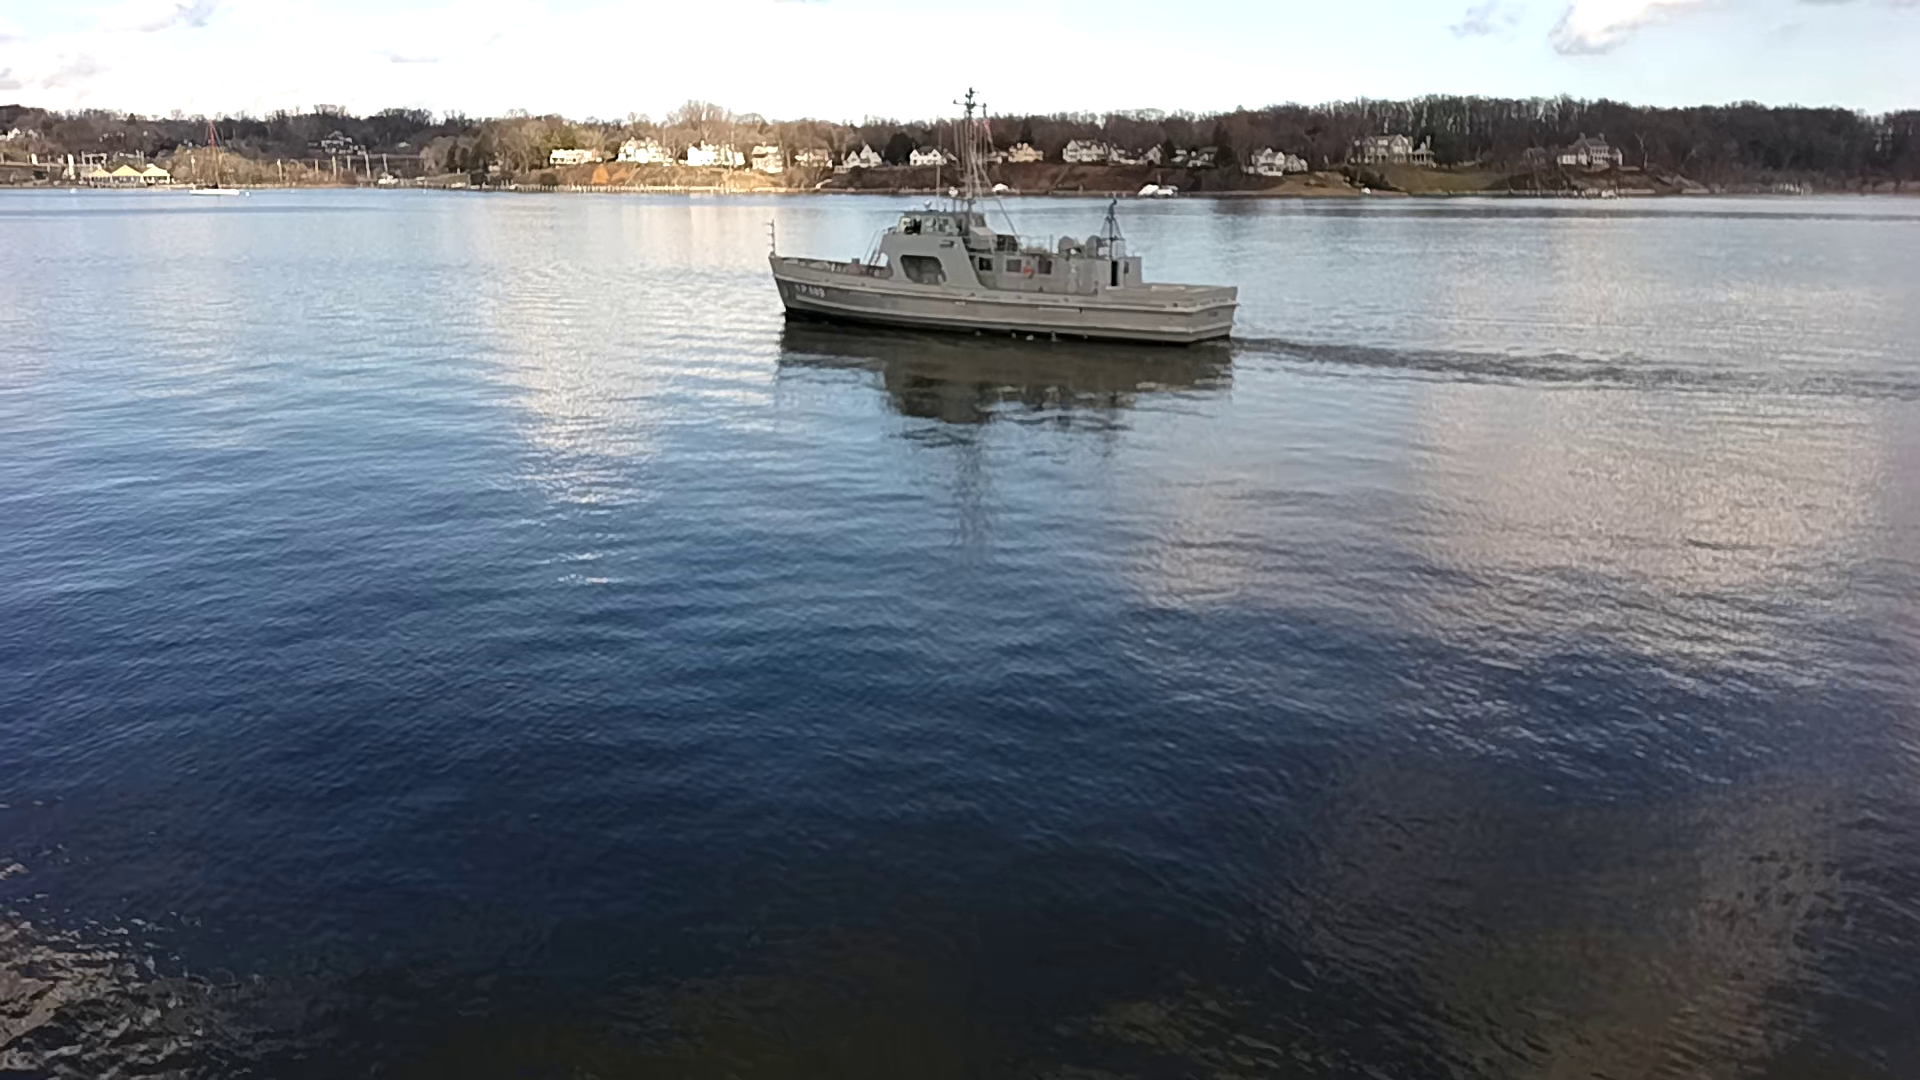YP689: (766, 86, 1241, 352)
